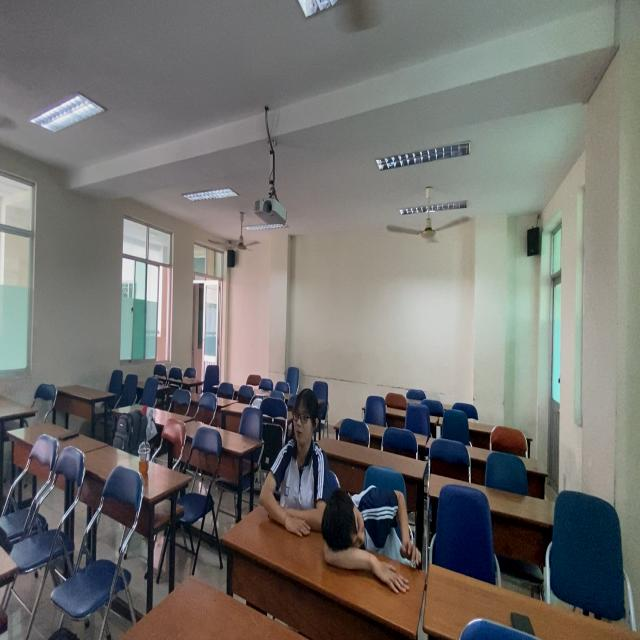sleep: (314, 473, 429, 594)
